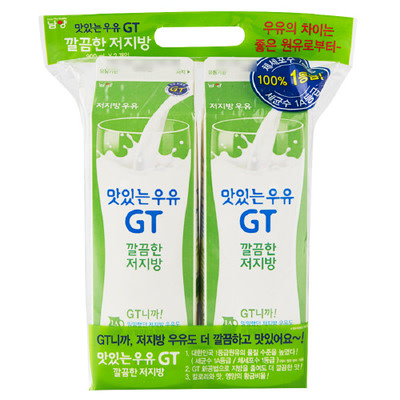milk: (90, 56, 305, 327)
